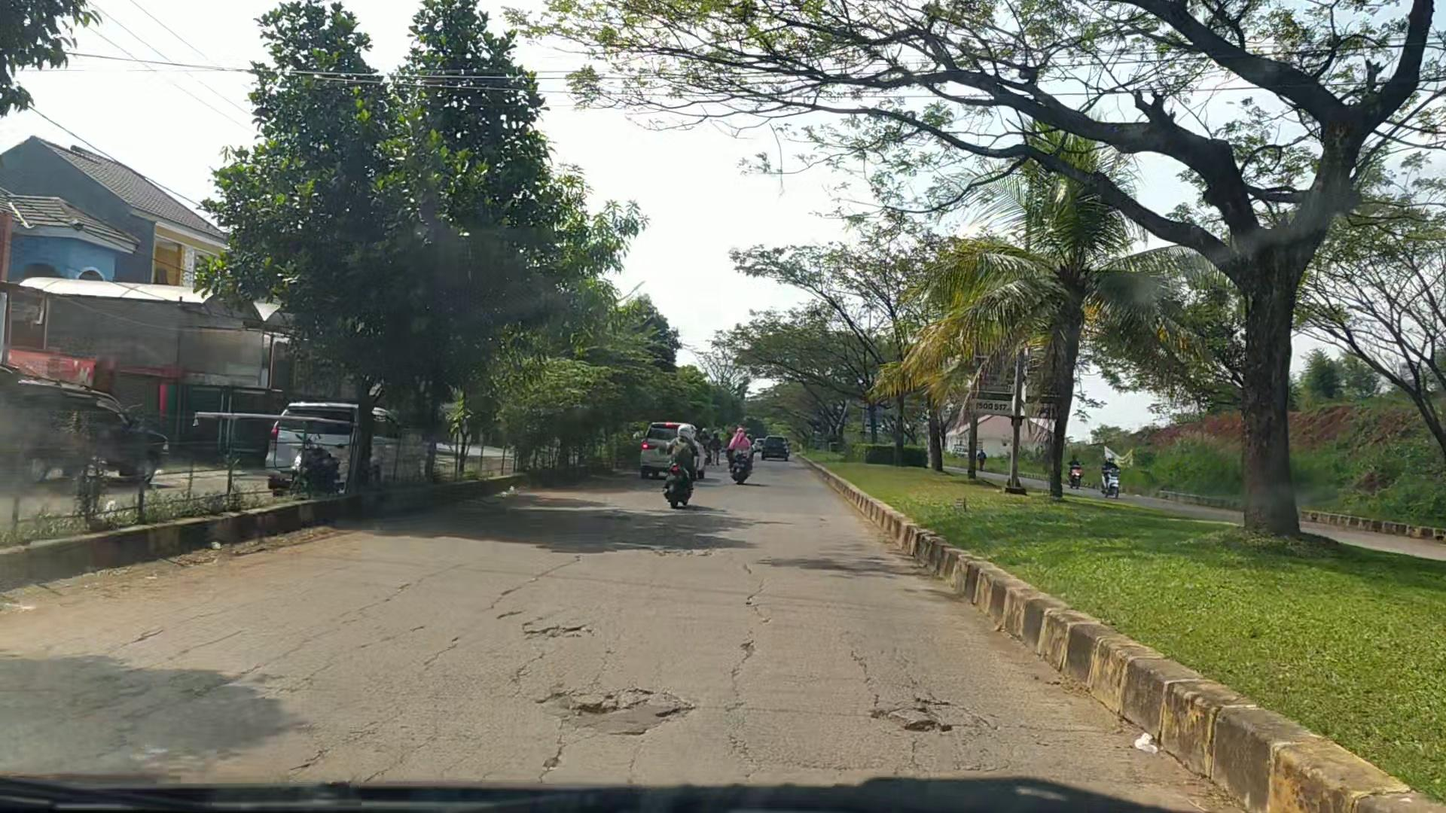pothole: (538, 686, 698, 736), (868, 694, 956, 740), (525, 624, 593, 642)
